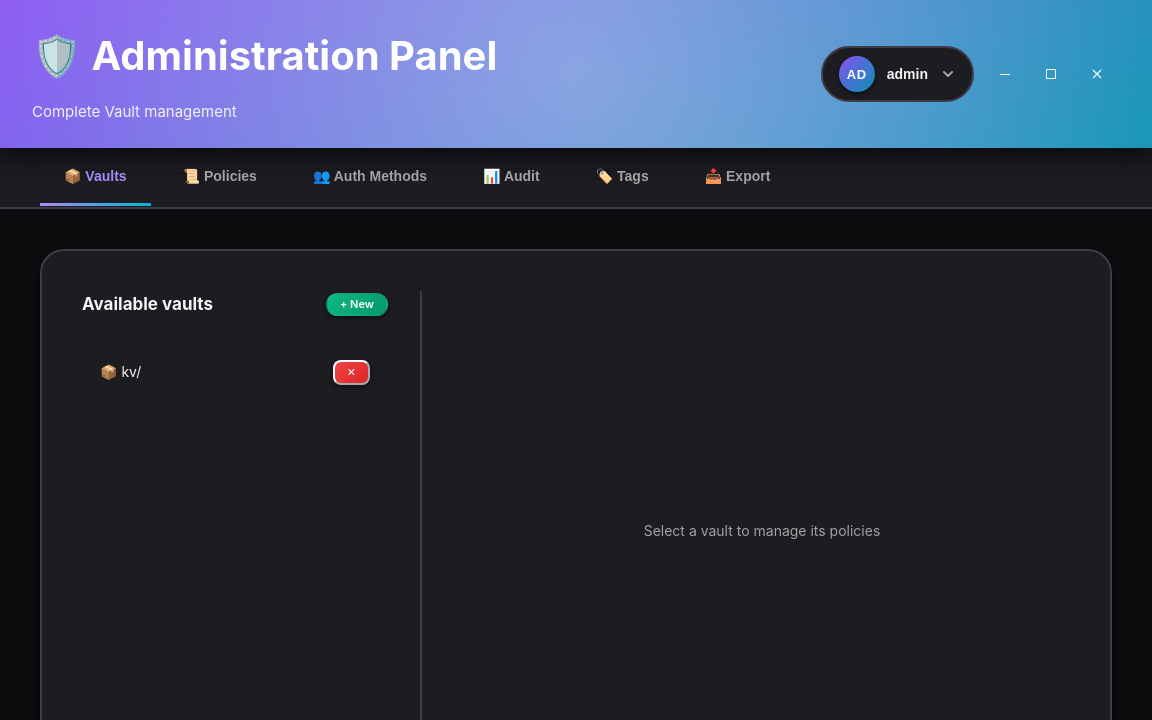
Test: AdminPanel — aucune couleur codée en dur (thème sombre) › onglet audit : encadré du device aux couleurs du thème, console de logs sombre conservée
The width and height of the screenshot is (1152, 720).
Click the tab with class "admin-tab" showing "📊 Audit". click: {"x": 511, "y": 178}
box: [459,148,564,207]
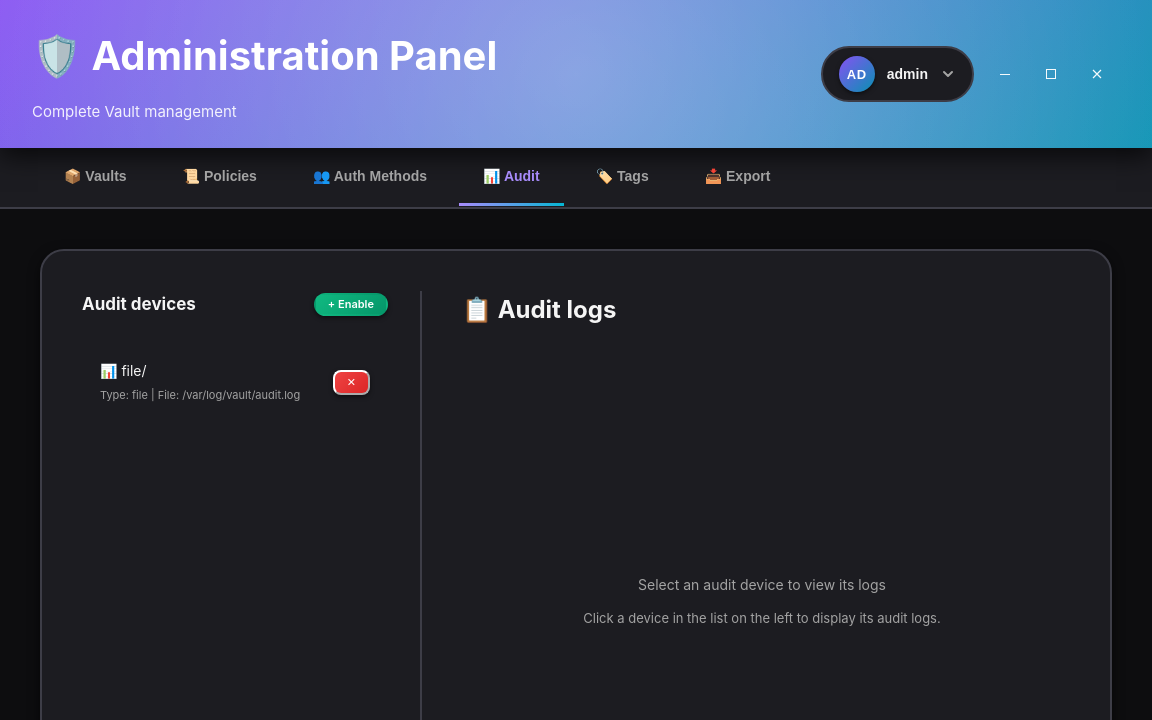
Click the list item with class "admin-item". click: {"x": 235, "y": 382}
box: [100,360,370,404]
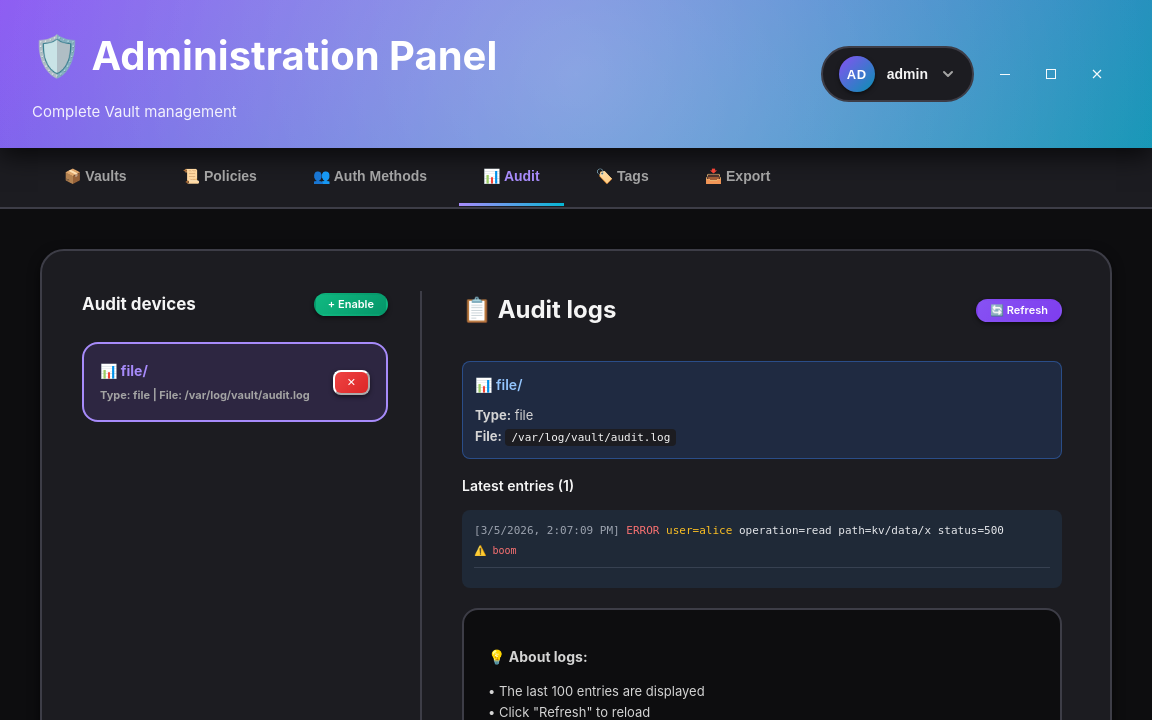
Result: the element with test id "audit-log-console" is shown at [462,510,1062,588]
Result: the element with test id "audit-log-console" shows "ERROR" at [626,524,659,537]
